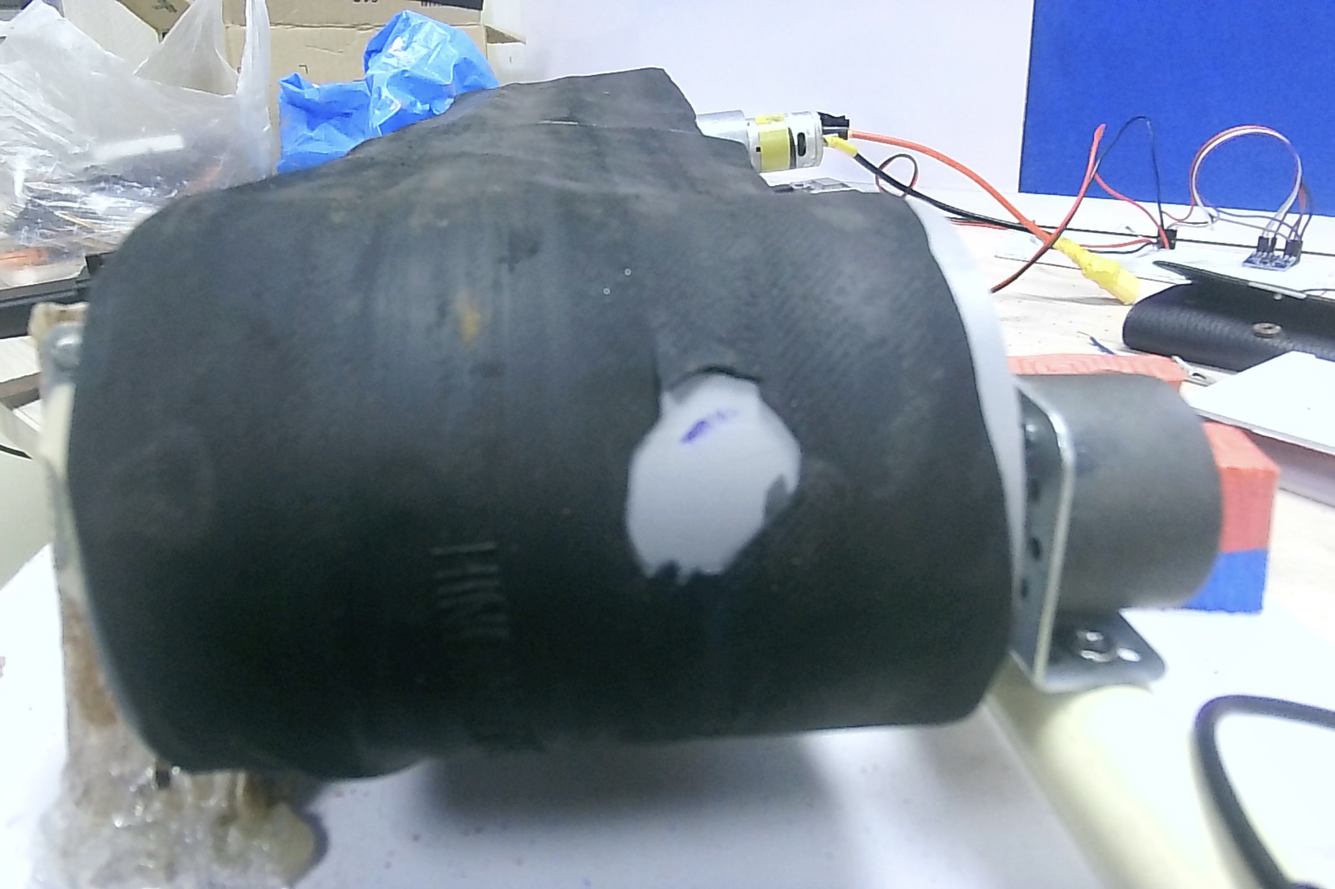hole: (597, 354, 813, 588)
